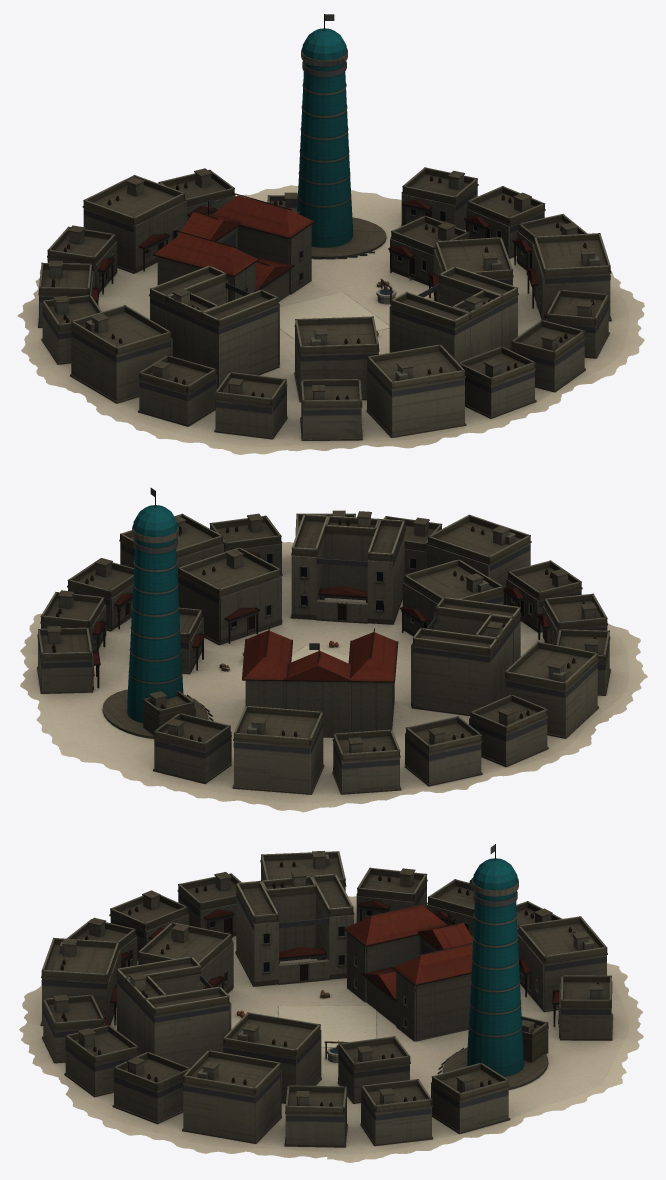
The model's file is gunpowder-town-big-a-steppe.glb.
3 views of the same model, one above another, from view 1: azimuth 30°, elevation 25°; view 2: azimuth 150°, elevation 25°; view 3: azimuth 270°, elevation 25° (orthographic).
Visible parts, largest first — view 1: LOD0; view 2: LOD0; view 3: LOD0.
Part boxes in pixels (box(x1,y1,x2,y2)): LOD0: box(17, 14, 644, 454); LOD0: box(20, 487, 647, 812); LOD0: box(19, 844, 643, 1162).
Size of what is drawn, in the model's own units: 7.96 by 3.08 by 7.89.
Materials: 3 (3 with a texture image).
